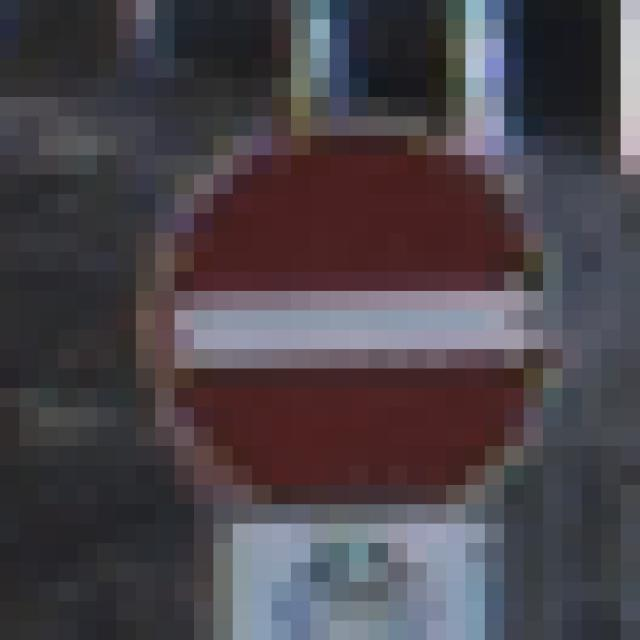No Entry: (117, 98, 544, 544)
